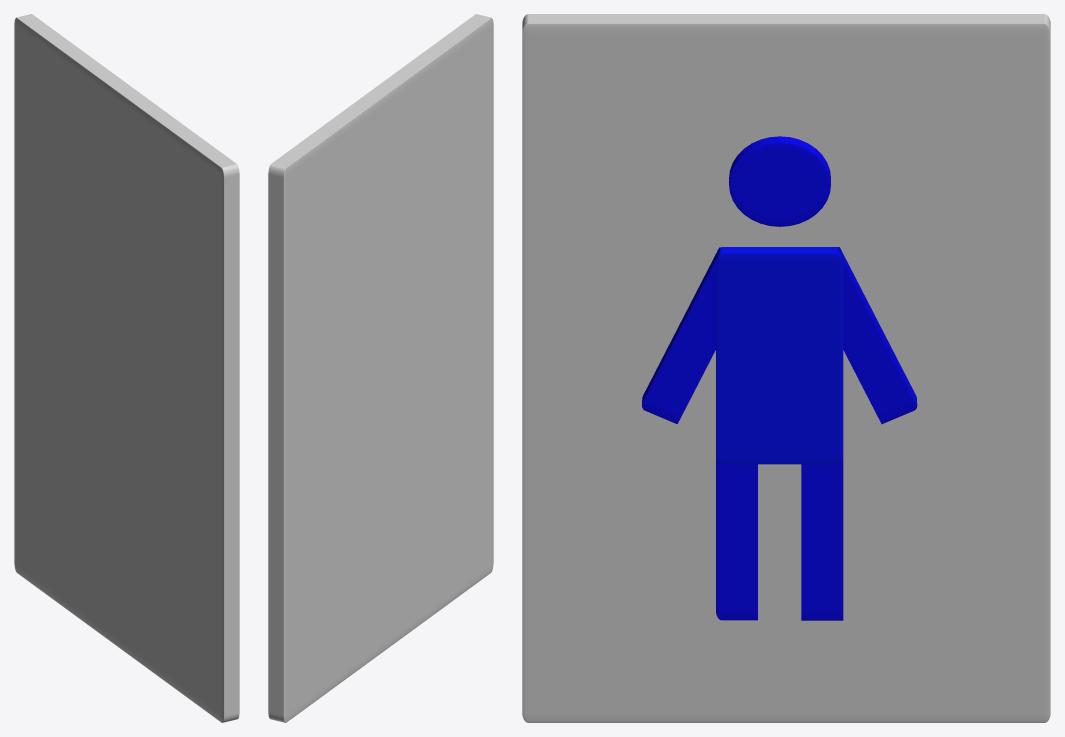
Rendered from Men.fbx.
The picture shows the model from 3 angles, left to right: view 1: azimuth 30°, elevation 25°; view 2: azimuth 150°, elevation 25°; view 3: azimuth 270°, elevation 25°; orthographic projection. The views are drawn at different scales.
Visible parts, largest first — view 1: Cube.002; view 2: Cube.002; view 3: Cube.002, Cube.004, Cube.011, Cube.012, Cube.013, Cube.014, Cube.015.
Boxes of the visible parts, bbox=[...] form: Cube.002: bbox=[14, 14, 239, 722]; Cube.002: bbox=[268, 14, 493, 722]; Cube.002: bbox=[522, 14, 1050, 722]; Cube.004: bbox=[716, 247, 843, 464]; Cube.011: bbox=[729, 136, 830, 226]; Cube.012: bbox=[801, 455, 843, 620]; Cube.013: bbox=[716, 456, 757, 620]; Cube.014: bbox=[838, 247, 917, 423]; Cube.015: bbox=[642, 247, 720, 423].
Bounding box in the file's own units: 33.64 × 662 × 453.
